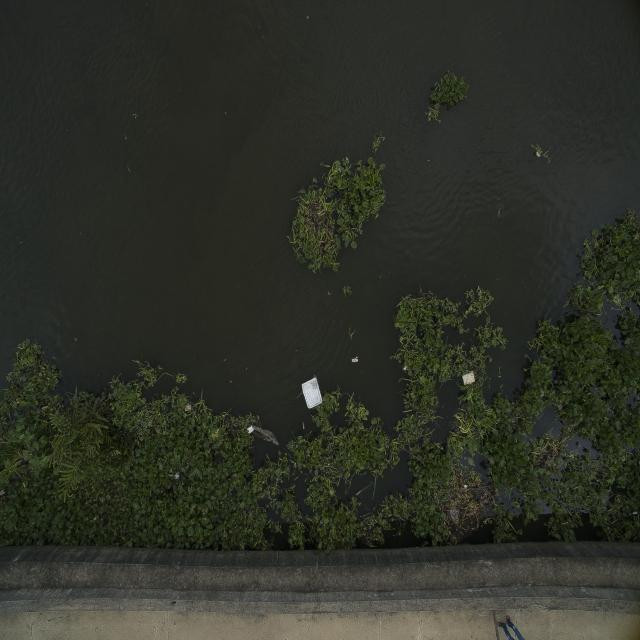plastic: (295, 370, 333, 417), (461, 365, 483, 400), (241, 417, 266, 445), (170, 465, 184, 488), (350, 354, 365, 370)
